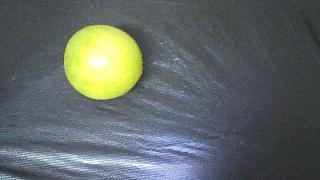LOCAL: (64, 25, 143, 100)
